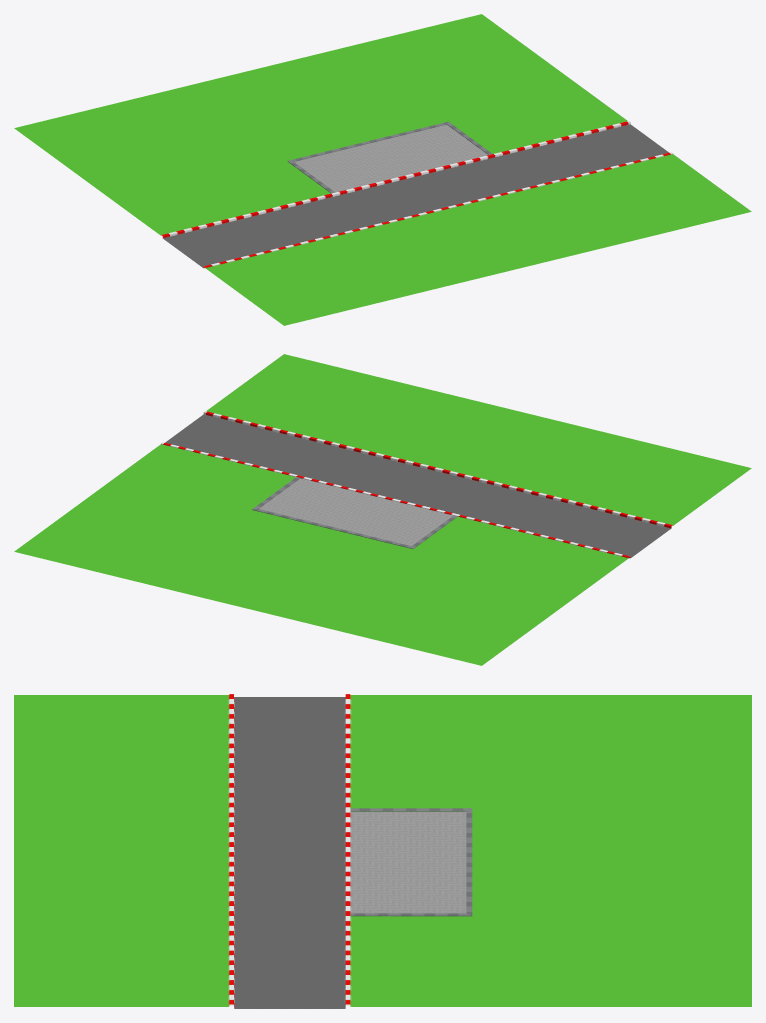
The model's file is Ground_01.fbx.
The picture shows the model from 3 angles, top to bottom: view 1: azimuth 30°, elevation 25°; view 2: azimuth 150°, elevation 25°; view 3: azimuth 270°, elevation 25°; orthographic projection. The views are drawn at different scales.
Parts seen in each view (by area): view 1: Ground_01; view 2: Ground_01; view 3: Ground_01.
Boxes of the visible parts, x1,y1,x2,y2 form: Ground_01: (14,14,751,325); Ground_01: (14,354,751,665); Ground_01: (14,694,751,1008).
Bounding box in the file's own units: 2491 × 10.68 × 2491.
